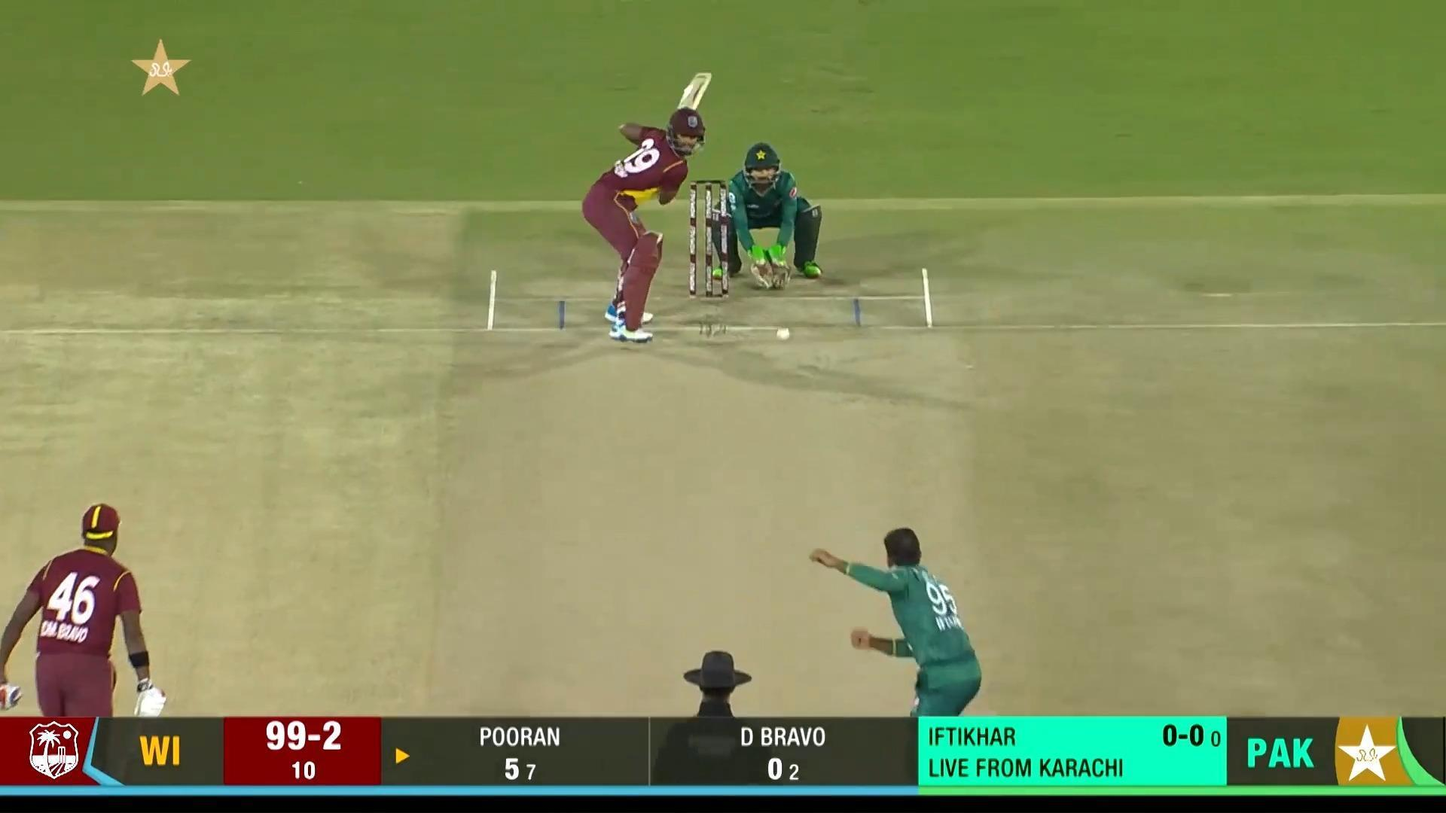BM 1: (581, 72, 717, 344)
BO: (808, 525, 984, 813)
